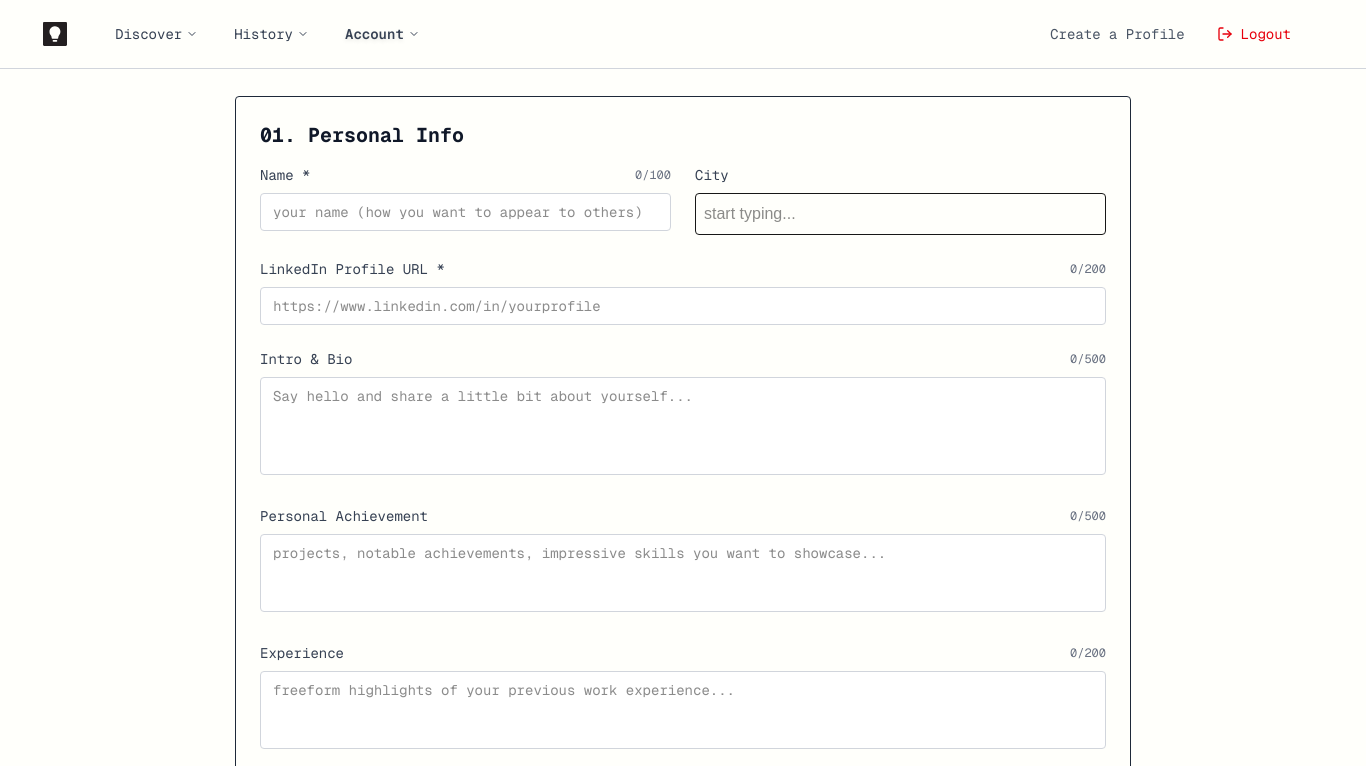
Test: ProfilePage Integration Tests › should publish profile and generate embeddings
Fill in required fields
Type "Jane Smith" into the field with placeholder "your name (how you want to appear to others)" at (466, 212), box [260, 193, 671, 231]
Type "https://www.linkedin.com/in/janesmith" into the field with placeholder "https://www.linkedin.com/in/yourprofile" at (683, 306), box [260, 287, 1106, 325]
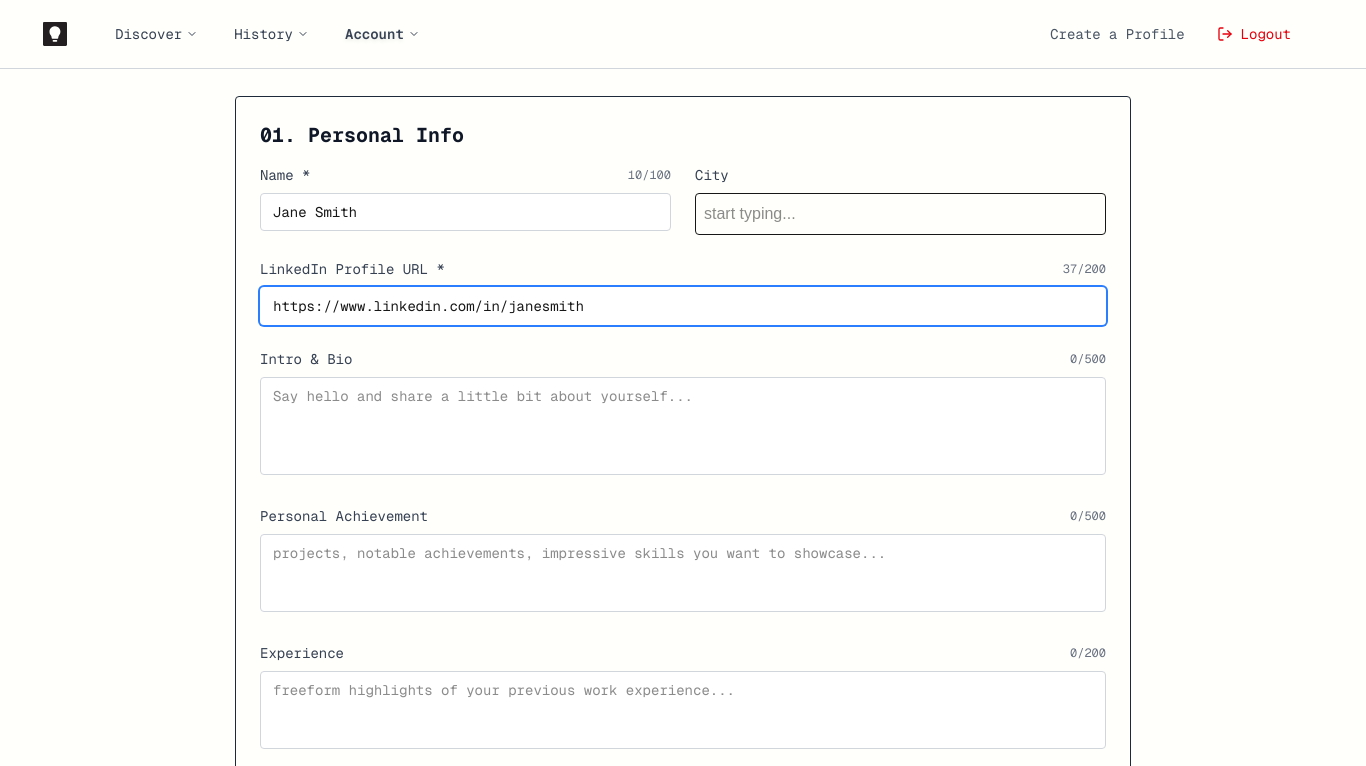
Type "Experienced product manager" into the text box with placeholder "Say hello and share a little bit about yourself..." at (683, 426), box [260, 377, 1106, 475]
(page scrolled)
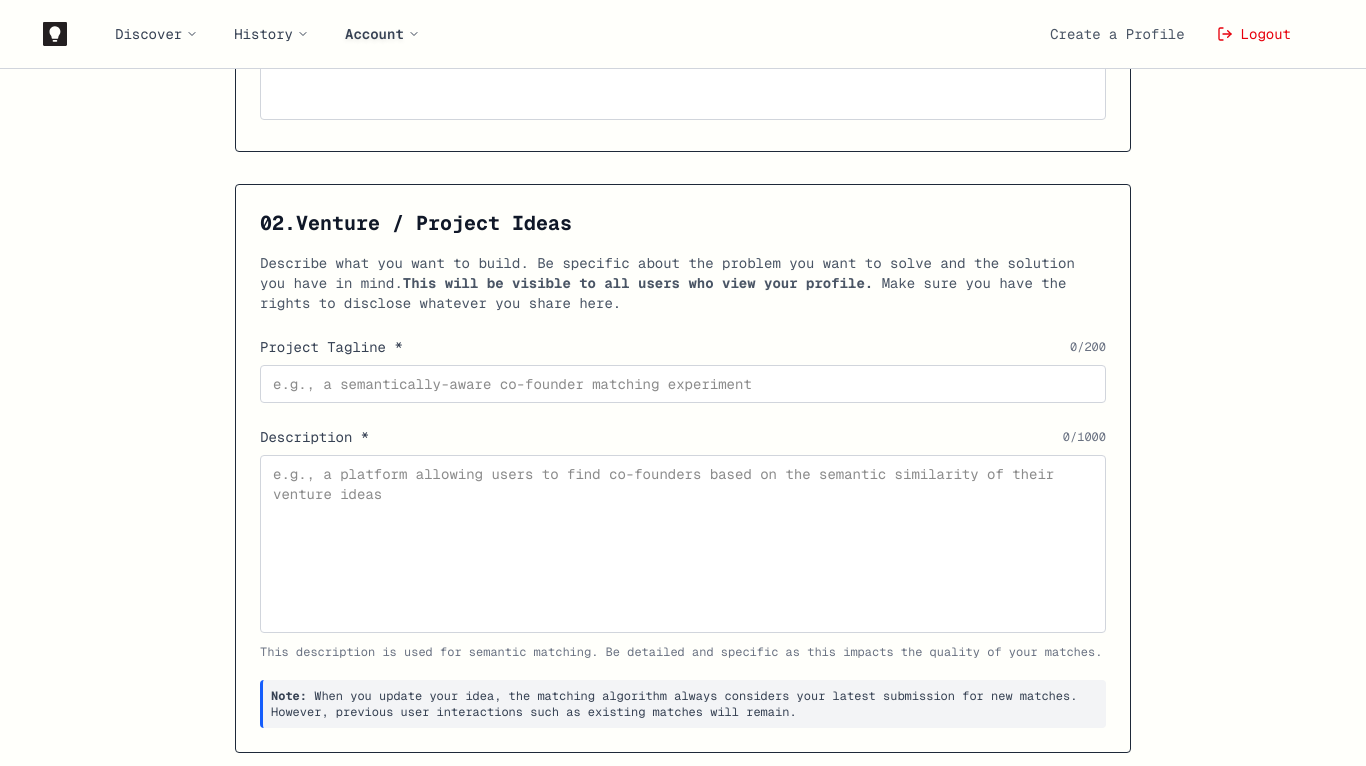
Type "DevTools Pro" into the field with placeholder "e.g., a semantically-aware co-founder matching experiment" at (683, 384), box [260, 365, 1106, 403]
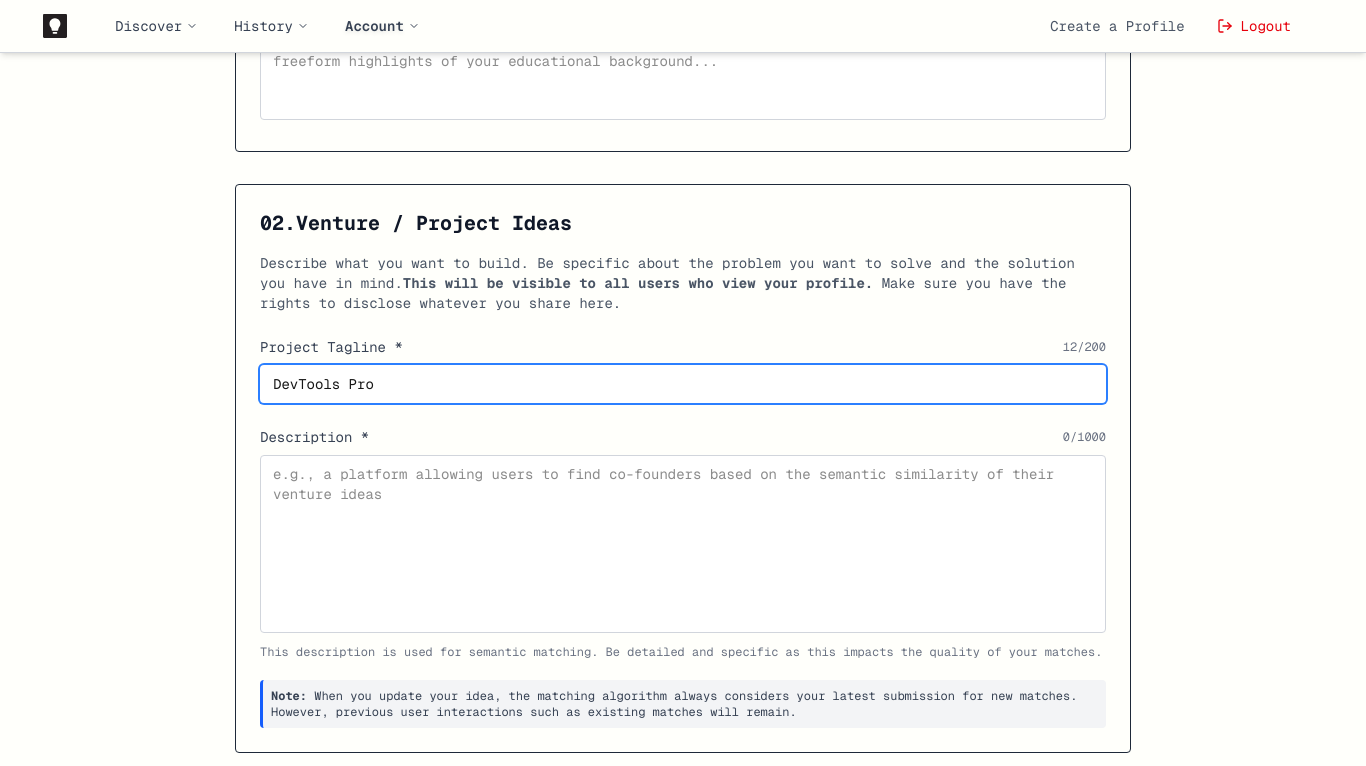
Type "A comprehensive development toolkit for modern teams" into the text box with placeholder "e.g., a platform allowing users to find co-founders based on the semantic similarity of their venture ideas" at (683, 544), box [260, 455, 1106, 633]
(page scrolled)
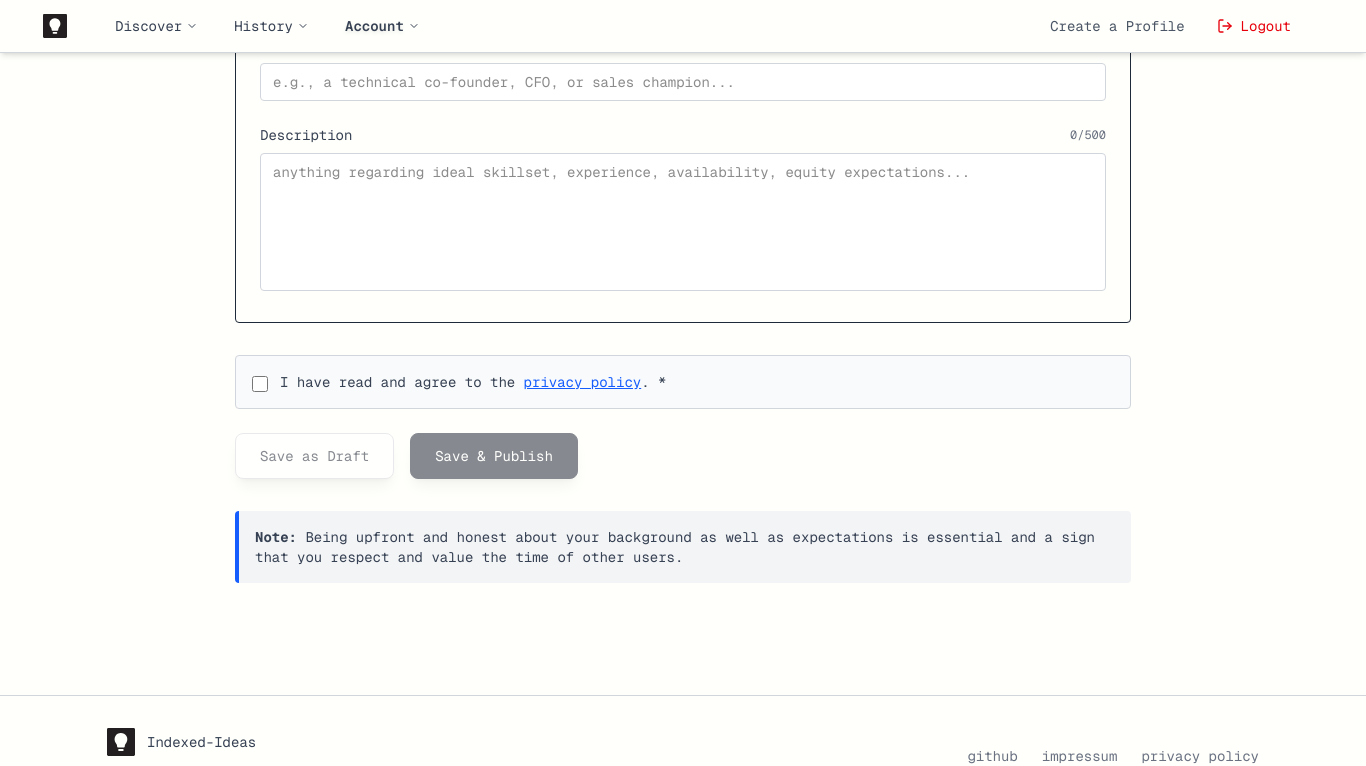
Click the checkbox labelled "I have read and agree to the privacy policy . *" at (260, 384), box [252, 376, 268, 392]
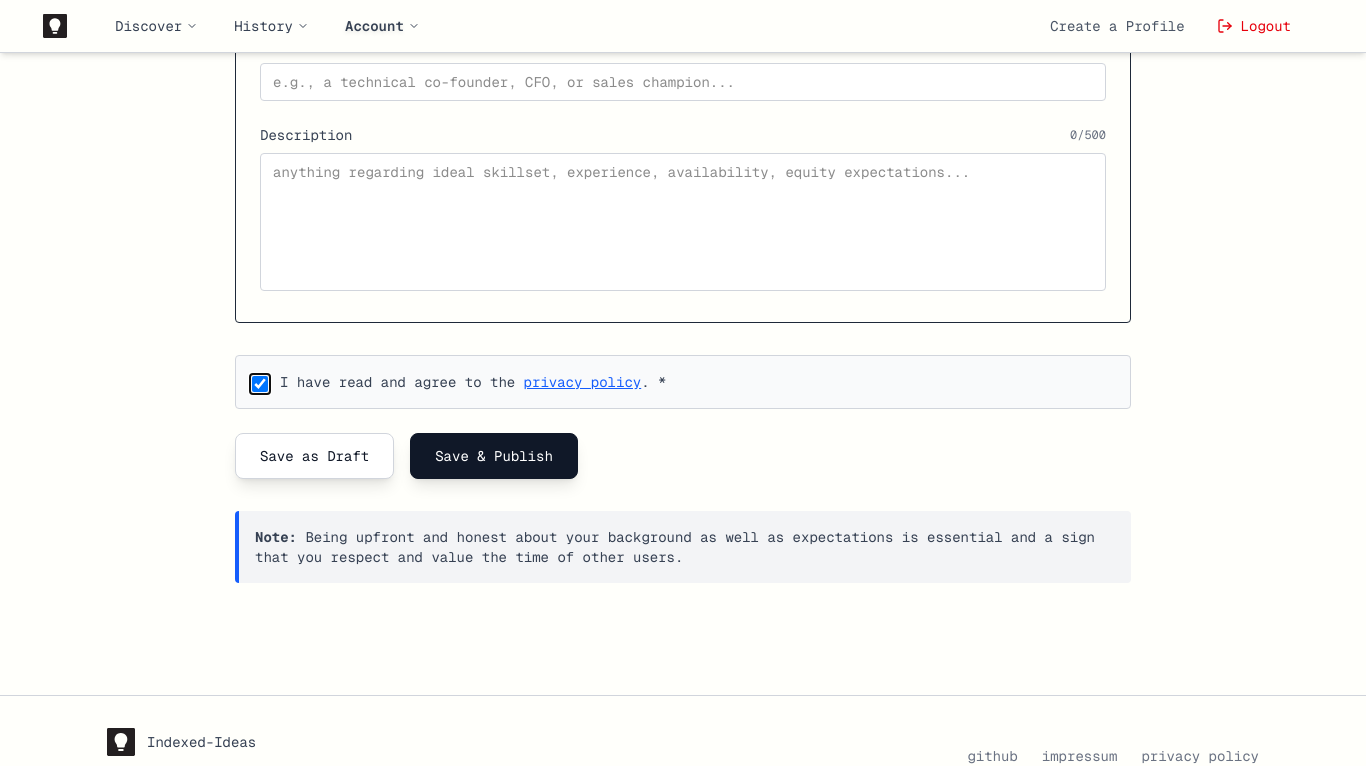
Click the button "Save & Publish" at (494, 456), box [410, 433, 578, 479]
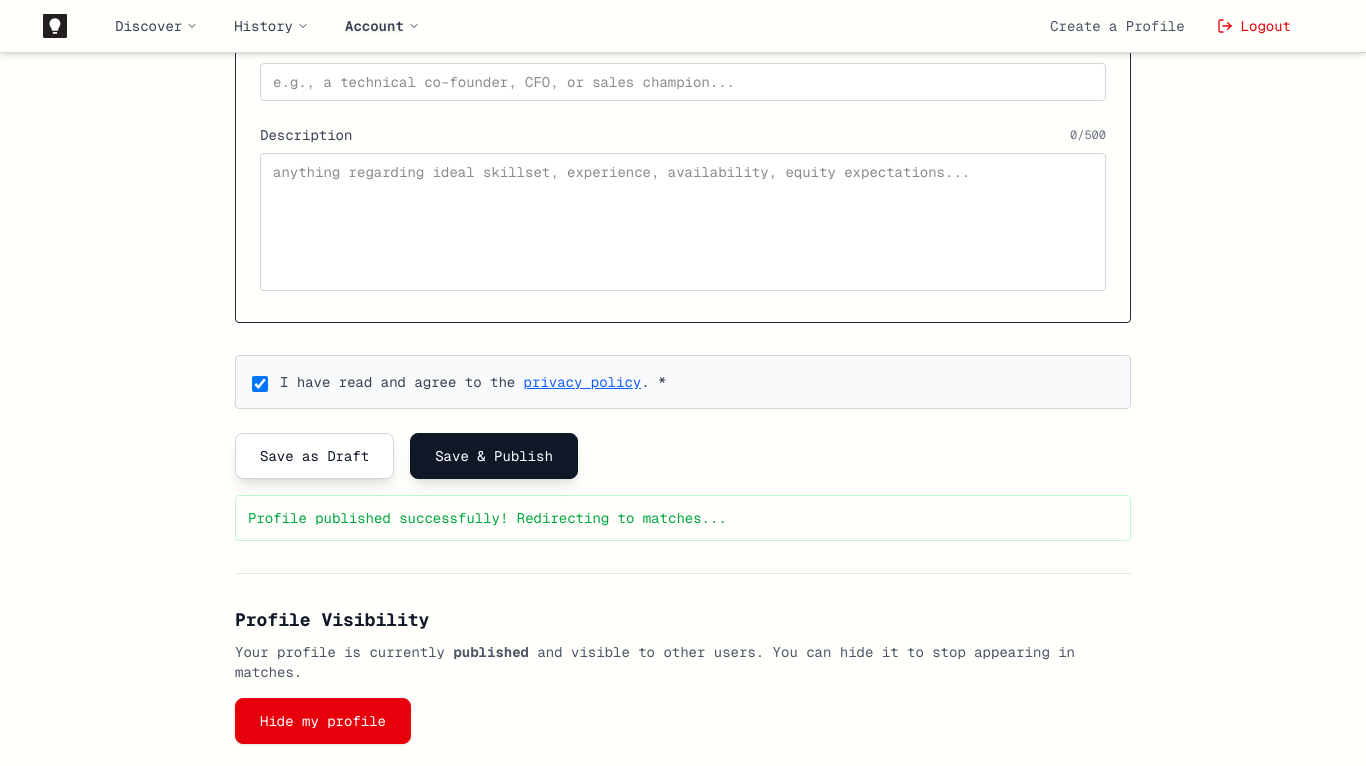
Check: the text "Profile published successfully! Redirecting to matches..." is shown, box [235, 495, 1131, 541]
